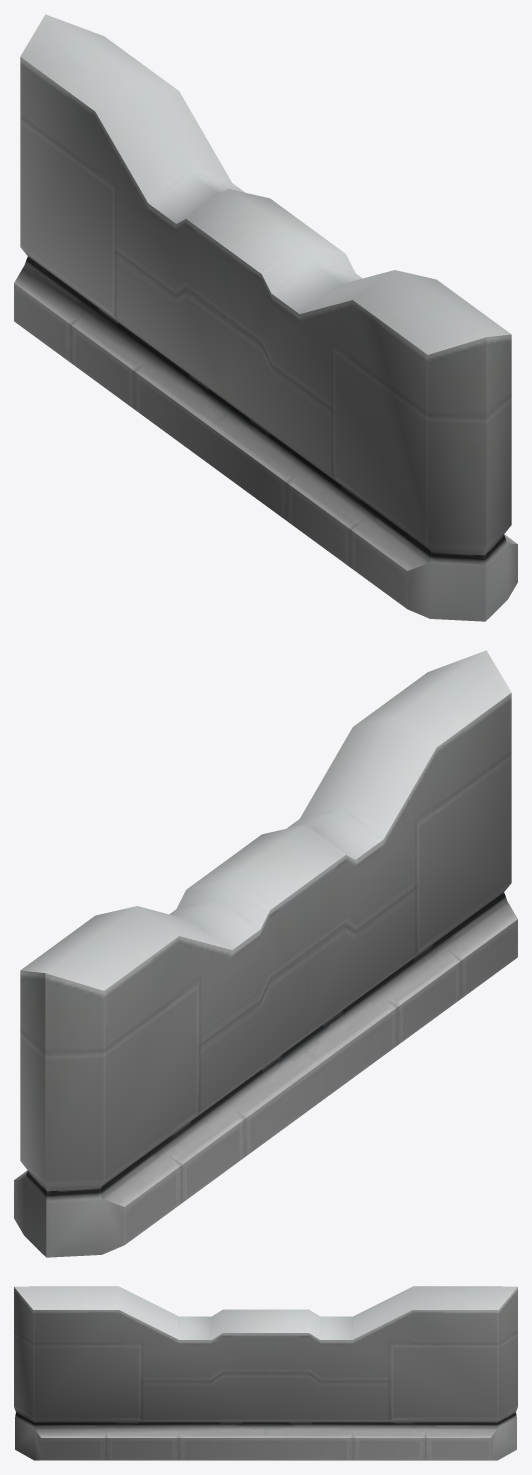
File: Part - Fence 08-z3p5J89u.glb
3 views of the same model, one above another, from view 1: azimuth 30°, elevation 25°; view 2: azimuth 150°, elevation 25°; view 3: azimuth 270°, elevation 25° (orthographic). The views are drawn at different scales.
Parts seen in each view (by area): view 1: Fence_08; view 2: Fence_08; view 3: Fence_08.
Part boxes in pixels (x1,y1,x2,y2): Fence_08: [14, 14, 517, 621]; Fence_08: [14, 650, 517, 1257]; Fence_08: [14, 1286, 517, 1460].
Size of the model in its own units: 0.3198 by 0.7882 by 2.21.
1 material, 1 textured.
